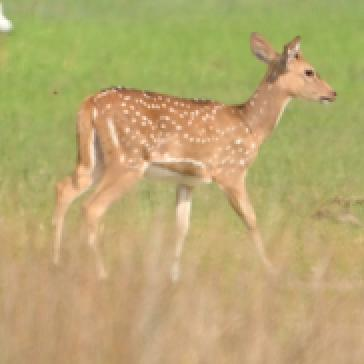Deer: (53, 33, 336, 279)
